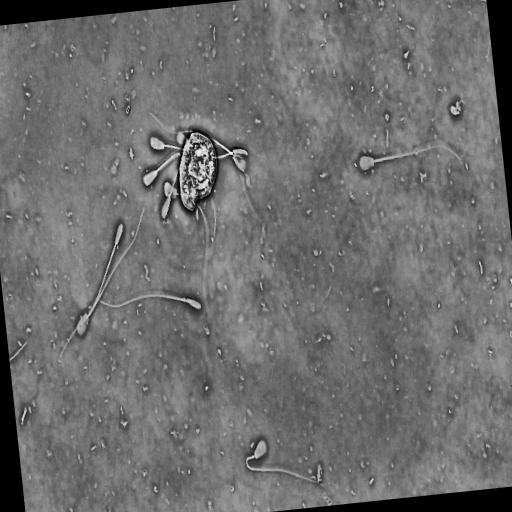dirt-particles: (177, 128, 219, 212), (449, 98, 465, 119)
folded-tail: (246, 455, 324, 486)
normal: (75, 206, 146, 339), (244, 438, 327, 491), (356, 141, 462, 176), (87, 219, 124, 319), (95, 294, 204, 314)
